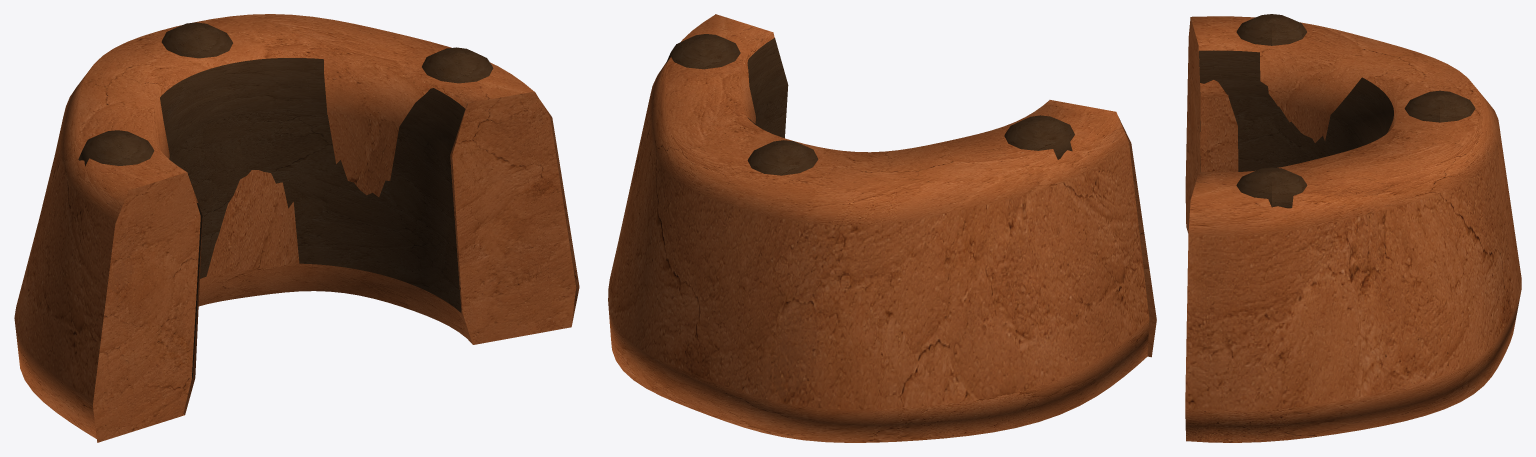
Rendered from prop_chula.glb.
3 views of the same model, side by side, from view 1: azimuth 30°, elevation 25°; view 2: azimuth 150°, elevation 25°; view 3: azimuth 270°, elevation 25° (orthographic). The views are drawn at different scales.
Visible parts, largest first — view 1: prop_chula; view 2: prop_chula; view 3: prop_chula.
Boxes of the visible parts, <box> form: prop_chula: <box>14,14,579,442</box>; prop_chula: <box>608,14,1156,442</box>; prop_chula: <box>1185,14,1521,442</box>.
Size of the model in its own units: 0.5 by 0.25 by 0.32.
Materials: 2 (2 with a texture image).
